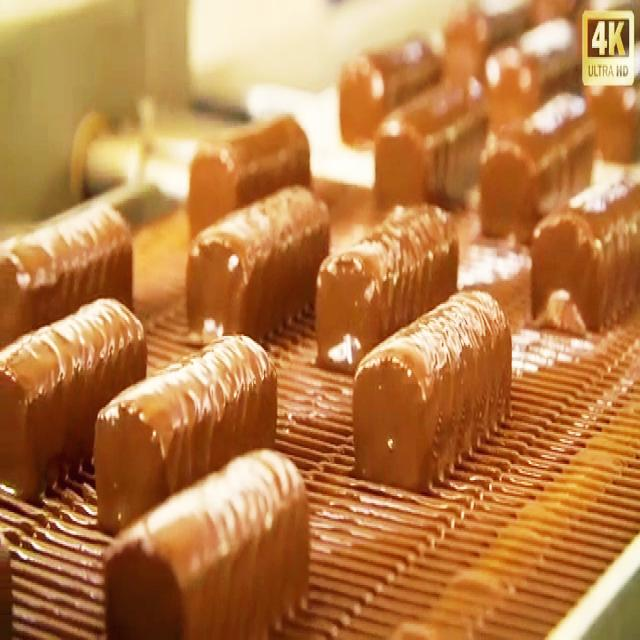Choco: (101, 444, 311, 634), (92, 329, 278, 530), (350, 284, 514, 490), (1, 301, 148, 497), (313, 198, 460, 372), (184, 181, 330, 338), (6, 192, 134, 346), (524, 170, 640, 337), (185, 108, 312, 234), (487, 90, 594, 236), (370, 87, 488, 211), (340, 29, 444, 152), (484, 26, 581, 138)
